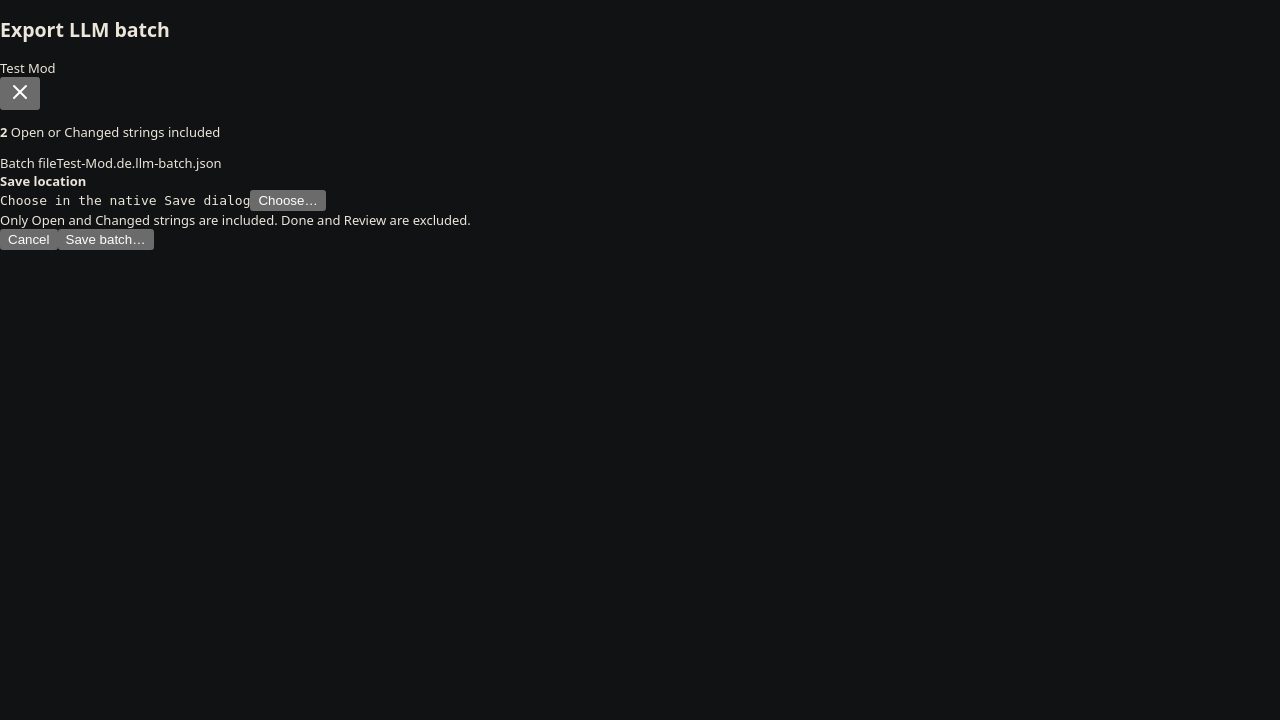
LlmBatchExportDialog › keeps the dialog open and restores Save after an export error
Click the button "Save batch…" at (106, 240), box [58, 229, 154, 250]
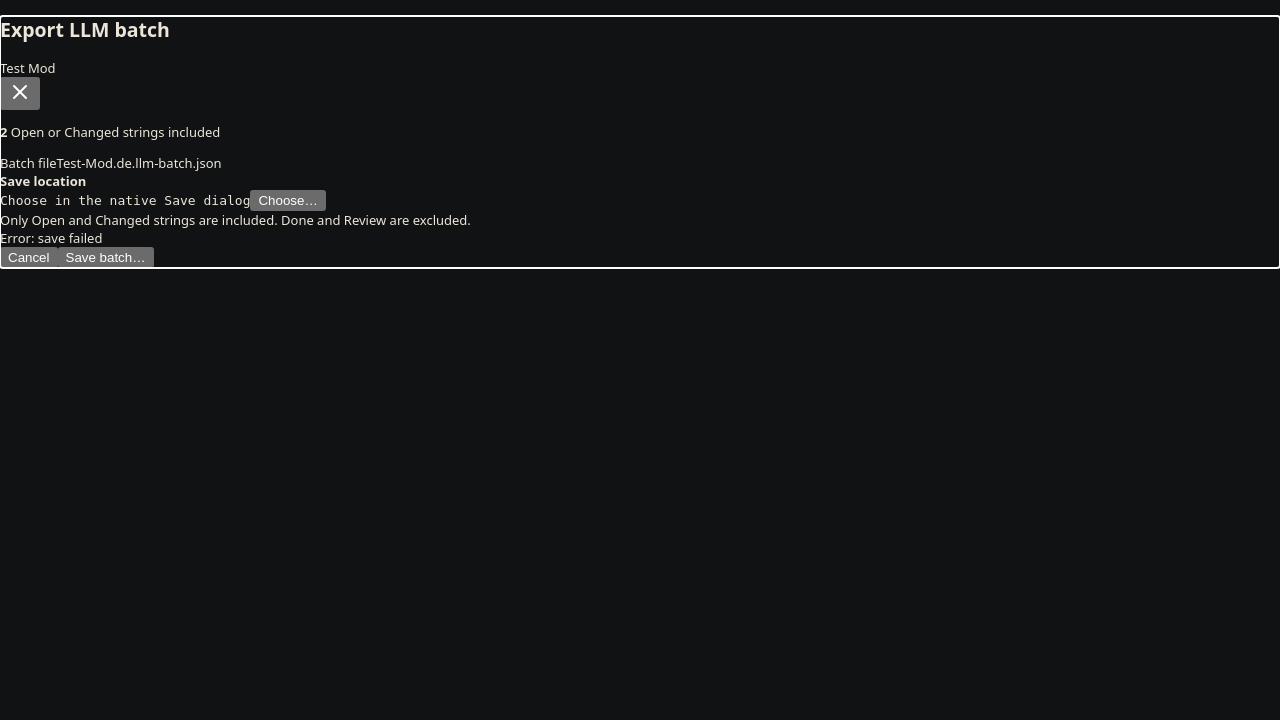
Check: the button "Save batch…" is enabled, box [58, 247, 154, 268]
Check: the message reads "Error: save failed", box [0, 229, 102, 247]
